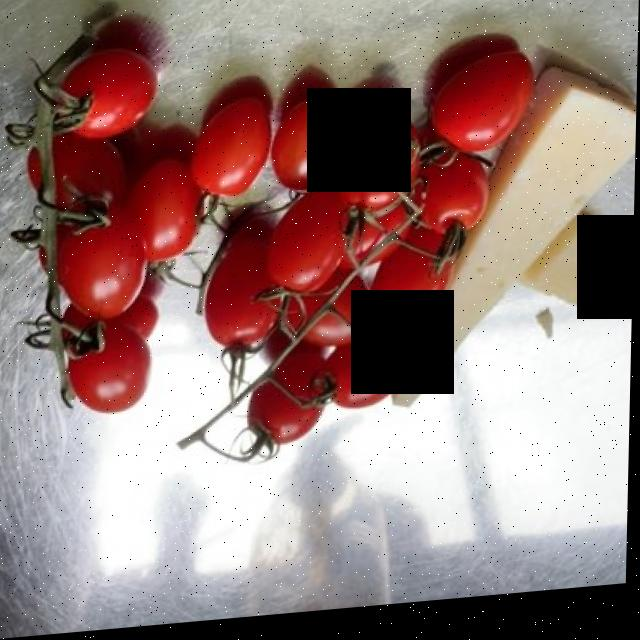tomato-raw: (17, 33, 539, 471)
